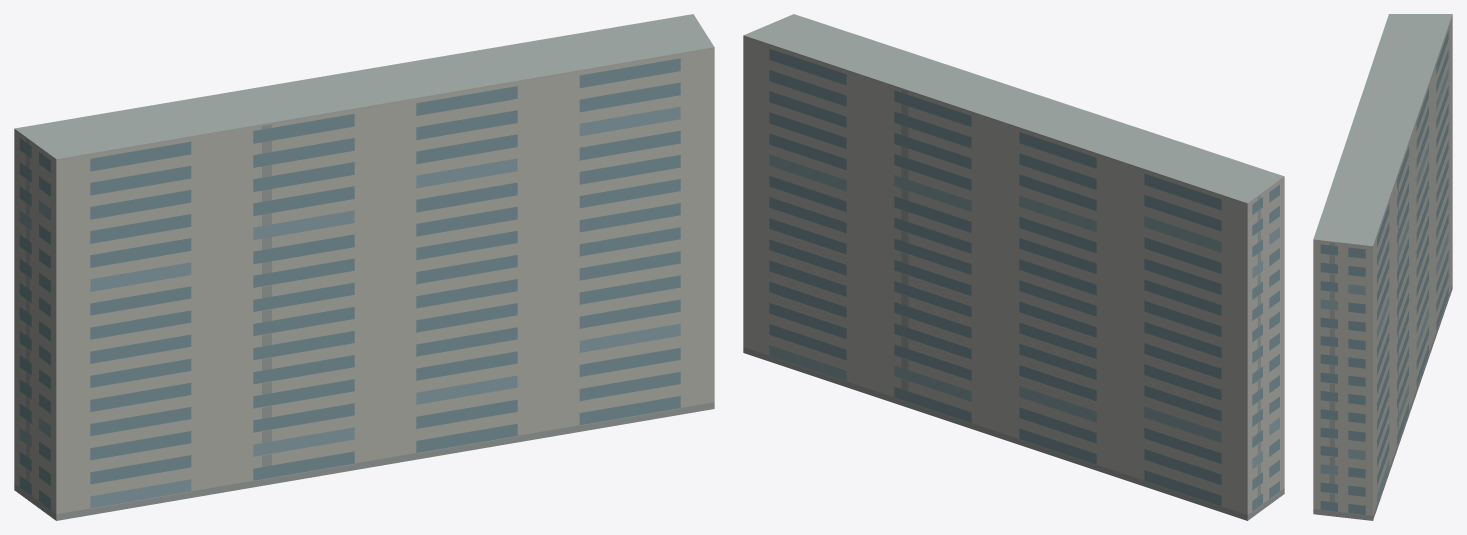
Rendered from residential-86ec5e44-69d2-4dde-9da2-43bc28549be7.glb.
The picture shows the model from 3 angles, left to right: view 1: azimuth 30°, elevation 25°; view 2: azimuth 150°, elevation 25°; view 3: azimuth 270°, elevation 25°; orthographic projection. The views are drawn at different scales.
Visible parts, largest first — view 1: residential-86ec5e44-69d2-4dde-9da2-43bc28549be7.tmp; view 2: residential-86ec5e44-69d2-4dde-9da2-43bc28549be7.tmp; view 3: residential-86ec5e44-69d2-4dde-9da2-43bc28549be7.tmp.
Boxes of the visible parts, bbox=[...] form: residential-86ec5e44-69d2-4dde-9da2-43bc28549be7.tmp: bbox=[14, 14, 714, 520]; residential-86ec5e44-69d2-4dde-9da2-43bc28549be7.tmp: bbox=[743, 14, 1284, 520]; residential-86ec5e44-69d2-4dde-9da2-43bc28549be7.tmp: bbox=[1313, 14, 1452, 520].
Bounding box in the file's own units: 82.95 × 45.75 × 21.04.
